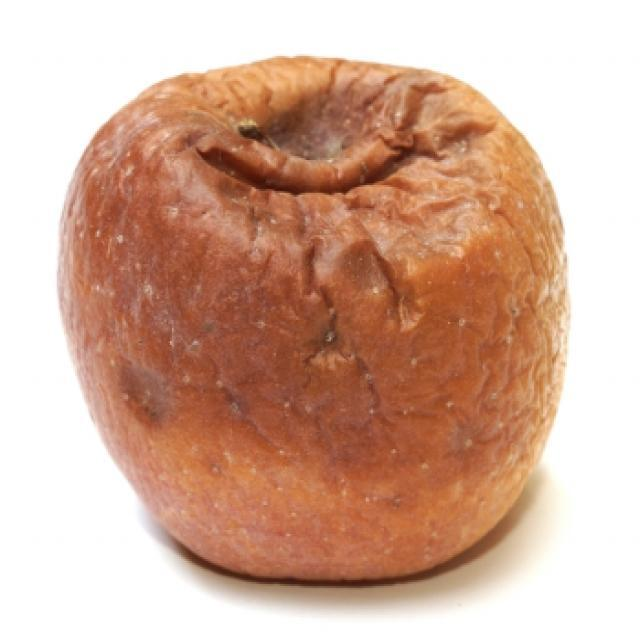Rotten: (75, 69, 573, 568)
